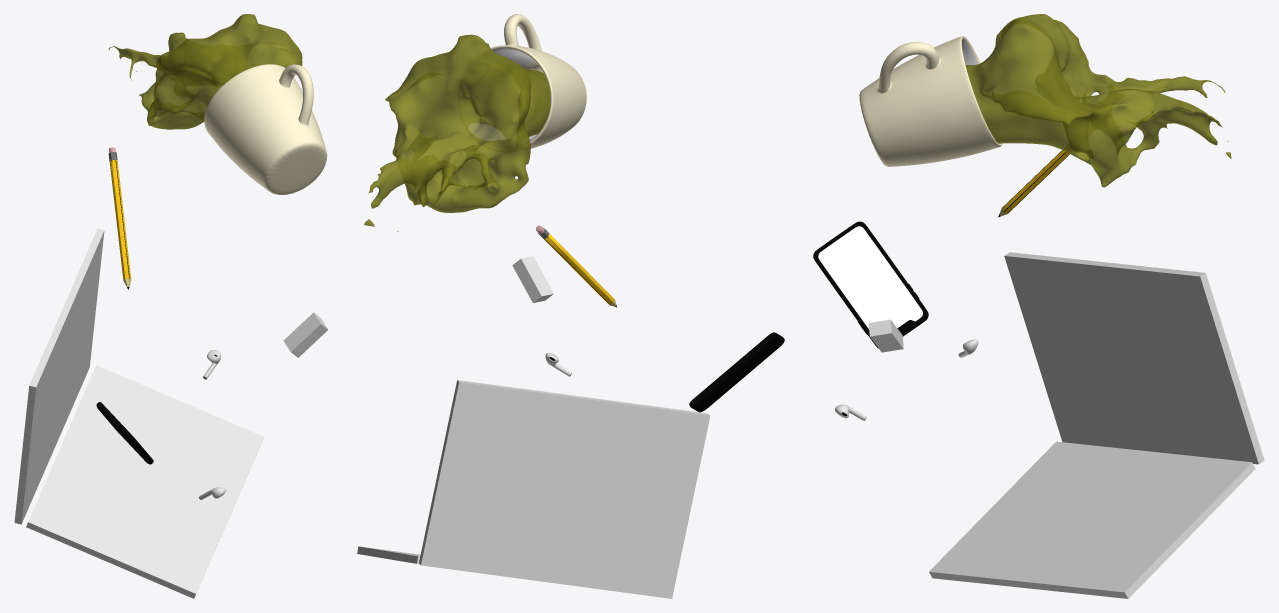
File: mlc_hero.glb
The picture shows the model from 3 angles, left to right: view 1: azimuth 30°, elevation 25°; view 2: azimuth 150°, elevation 25°; view 3: azimuth 270°, elevation 25°; orthographic projection. The views are drawn at different scales.
Visible parts, largest first — view 1: iphone.003, Cylinder.002, liquido, iphone.004, Cylinder.007, Cube.001, Cube.007; view 2: iphone.004, liquido, Cylinder.002, Cube.007, Cube.001, Cylinder.007, iphone.003; view 3: iphone.004, iphone.003, liquido, Cylinder.002, Cube.007, Cube.001, Cylinder.007.
Boxes of the visible parts, x1,y1,x2,y2 form: iphone.003: (26, 365, 264, 598); Cylinder.002: (204, 64, 327, 194); liquido: (108, 14, 302, 129); iphone.004: (14, 228, 104, 524); Cylinder.007: (108, 147, 131, 289); Cube.001: (283, 312, 328, 357); Cube.007: (96, 402, 153, 464); iphone.004: (419, 380, 710, 598); liquido: (364, 34, 550, 231); Cylinder.002: (468, 14, 586, 148); Cube.007: (689, 332, 784, 412); Cube.001: (512, 256, 553, 302); Cylinder.007: (536, 225, 616, 307); iphone.003: (357, 546, 420, 564); iphone.004: (1004, 252, 1264, 464); iphone.003: (929, 441, 1255, 598); liquido: (965, 14, 1231, 187); Cylinder.002: (859, 36, 1002, 166); Cube.007: (813, 221, 928, 348); Cube.001: (868, 319, 903, 352); Cylinder.007: (998, 150, 1069, 217).
Bounding box in the file's own units: 6.37 × 11.36 × 7.61.
